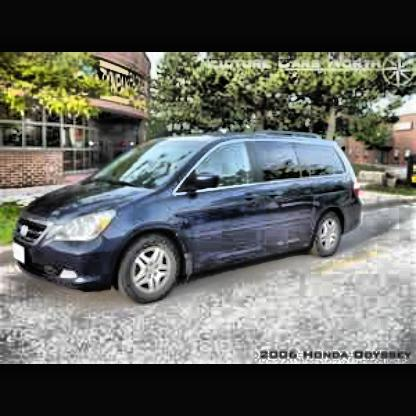Honda Odyssey Minivan 2007: (16, 136, 365, 306)
